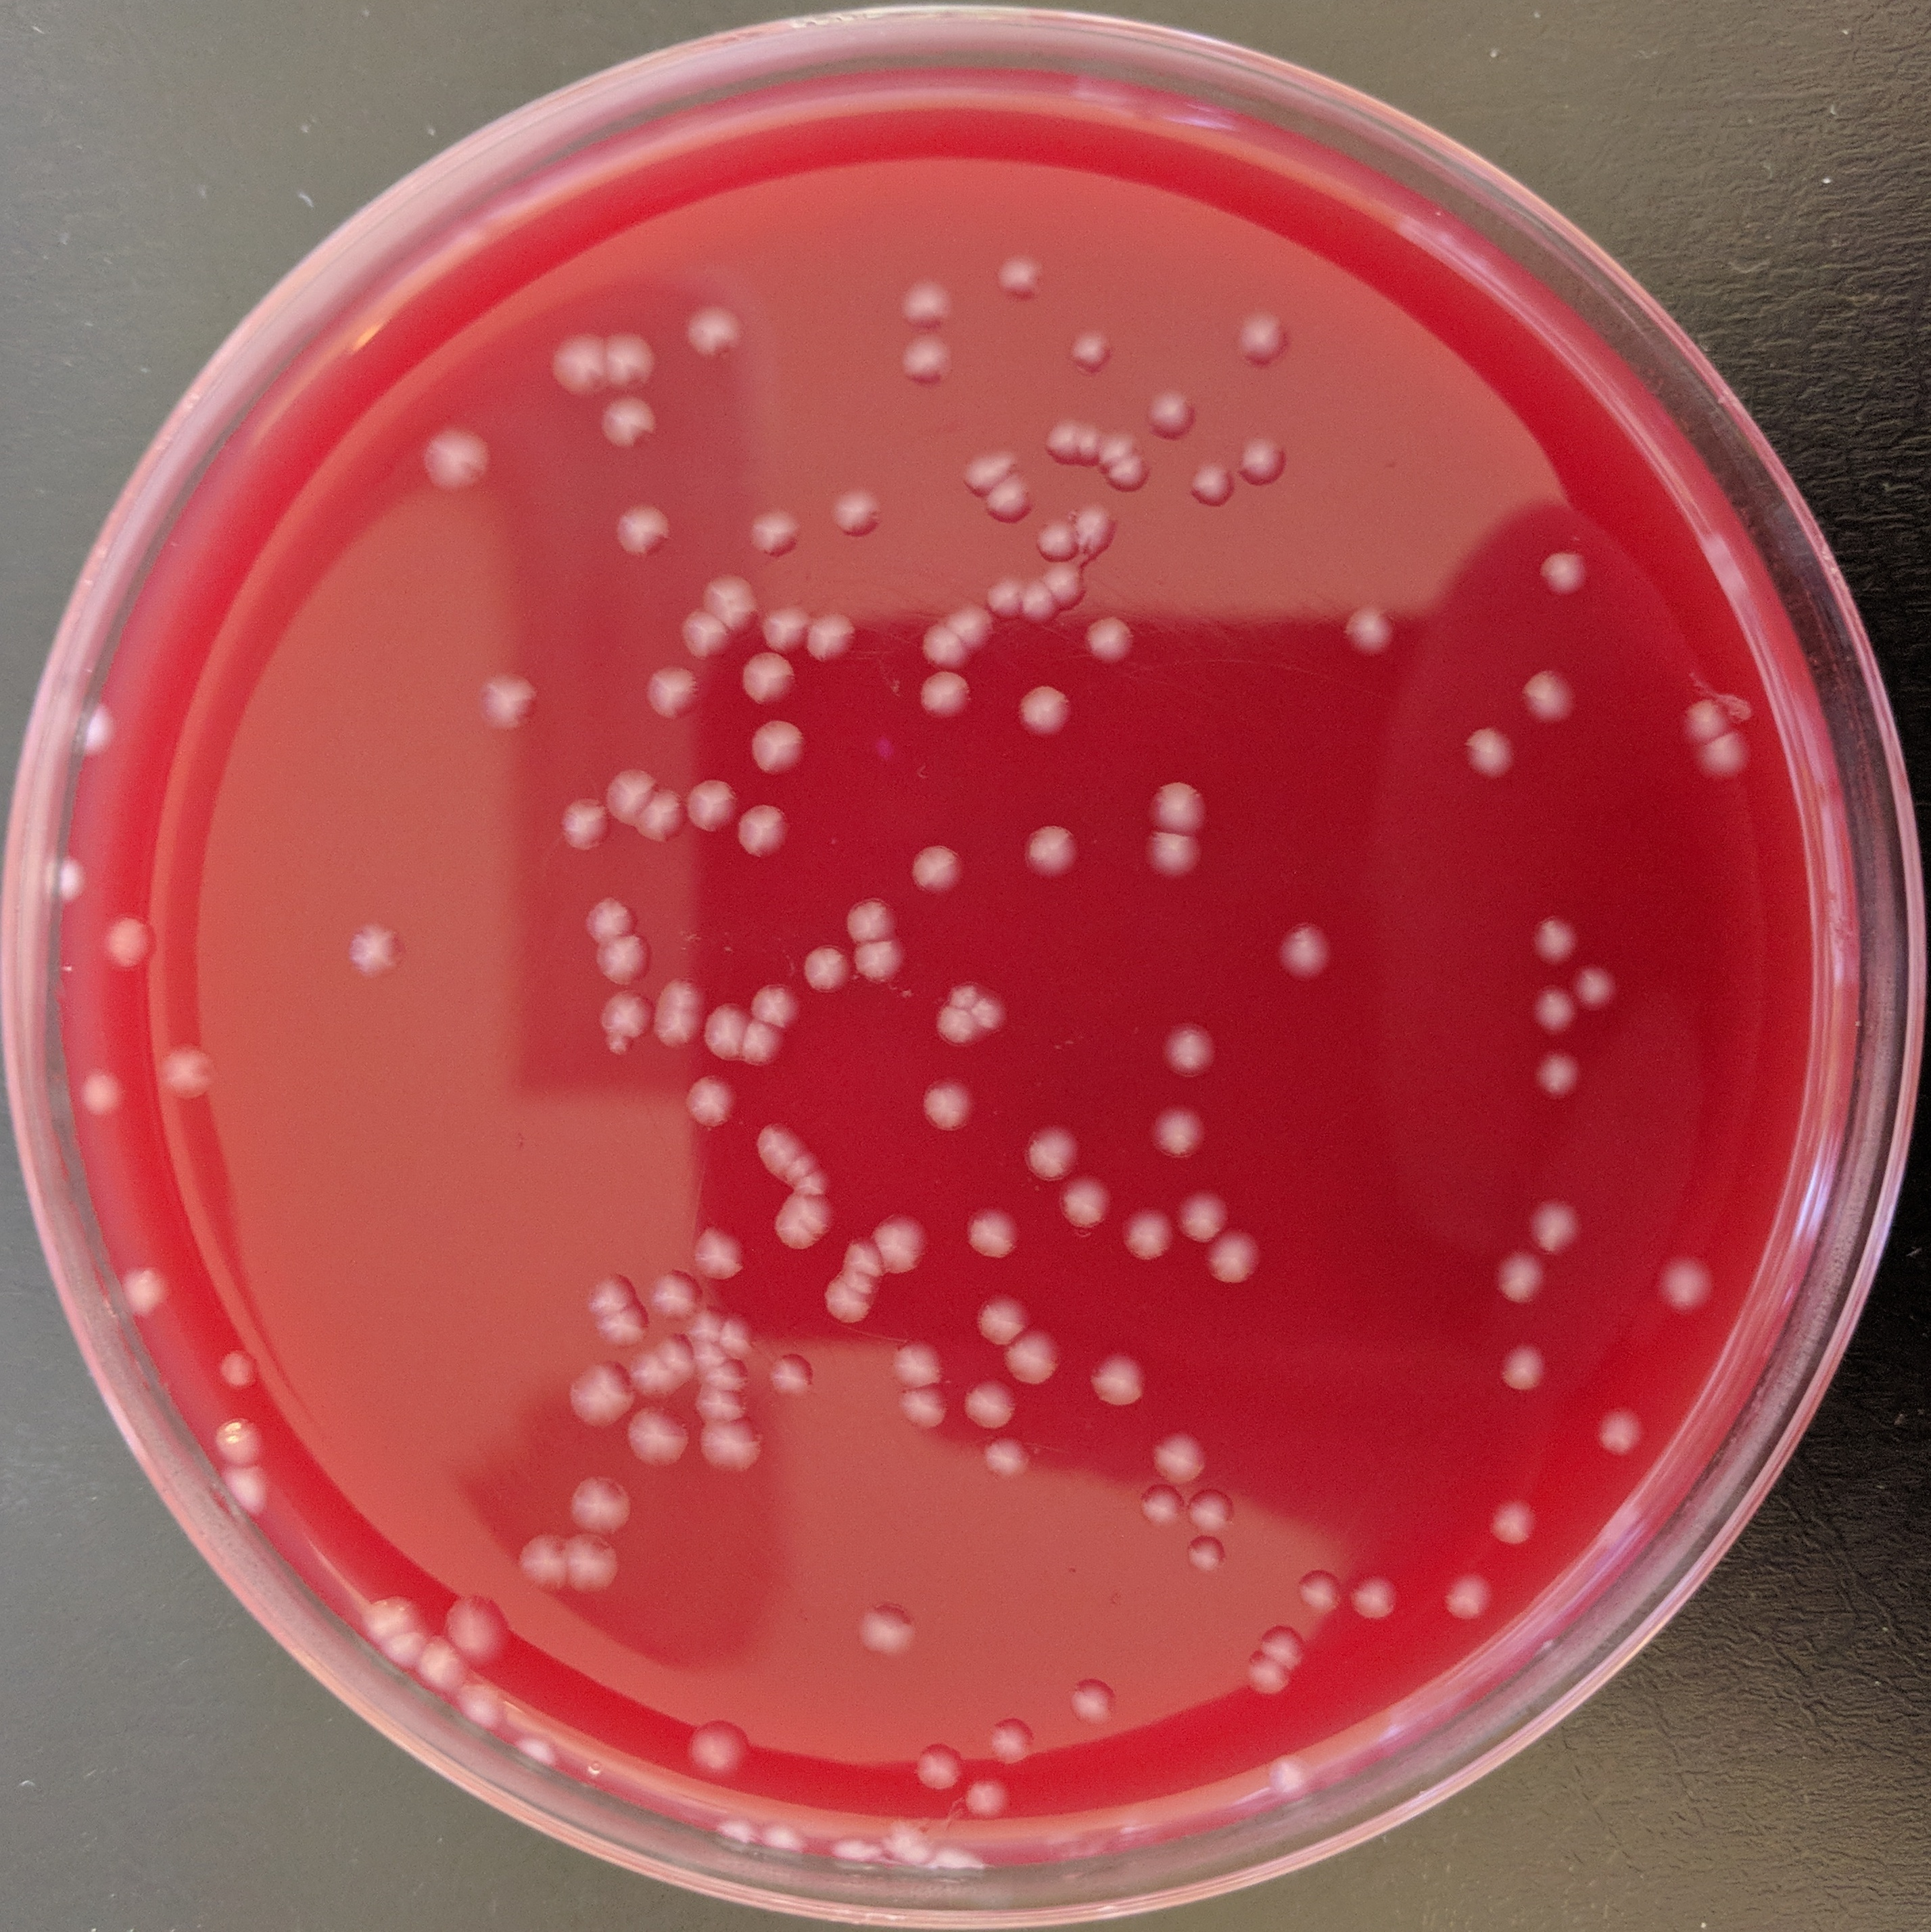sp18: (431, 1587, 523, 1668), (465, 660, 548, 741), (1641, 1240, 1721, 1323), (905, 1070, 994, 1138), (739, 708, 819, 780), (414, 426, 495, 495), (601, 494, 683, 563), (1227, 299, 1301, 373), (624, 1403, 695, 1477), (555, 1530, 631, 1599), (693, 1414, 773, 1479), (897, 835, 978, 899), (561, 1361, 633, 1431), (559, 1476, 635, 1543), (1135, 823, 1220, 883), (1153, 1012, 1224, 1083), (1434, 1562, 1508, 1629), (1111, 1200, 1179, 1270), (686, 564, 759, 632), (1492, 1330, 1560, 1403), (1049, 1168, 1121, 1235), (893, 322, 962, 391), (962, 1198, 1031, 1267), (902, 1734, 973, 1801), (598, 320, 663, 393), (638, 655, 702, 729), (543, 331, 610, 400), (403, 1638, 472, 1706), (157, 1039, 226, 1106), (1523, 1191, 1588, 1261), (675, 1063, 746, 1129), (1521, 899, 1583, 973), (1531, 531, 1591, 607), (870, 1205, 930, 1281), (1202, 1223, 1270, 1290), (1010, 676, 1075, 745), (1512, 658, 1577, 727), (1001, 1322, 1066, 1391), (553, 793, 619, 862), (209, 1456, 279, 1520), (334, 922, 405, 985), (1017, 1122, 1089, 1184), (1061, 315, 1121, 389), (914, 660, 980, 727), (1169, 1185, 1236, 1251), (71, 1063, 136, 1131), (820, 483, 891, 545), (681, 1224, 752, 1286), (1123, 1477, 1195, 1537), (1494, 1244, 1553, 1318), (1457, 722, 1523, 787), (980, 1713, 1045, 1778), (1273, 911, 1337, 978), (1149, 771, 1213, 839), (1019, 817, 1088, 879), (955, 1375, 1026, 1435), (681, 773, 741, 844), (1144, 1102, 1210, 1166), (589, 929, 654, 993), (615, 1336, 677, 1403), (845, 1599, 914, 1660), (594, 755, 651, 828), (698, 991, 753, 1065), (792, 939, 856, 1003), (95, 908, 159, 971), (1179, 451, 1241, 517), (732, 646, 798, 708), (1332, 600, 1399, 660), (1340, 1571, 1408, 1631), (684, 1716, 753, 1775), (1236, 423, 1291, 495), (1146, 1430, 1210, 1491), (1089, 1346, 1153, 1408), (42, 840, 95, 915), (734, 800, 799, 860), (973, 1426, 1038, 1486), (113, 1258, 179, 1318), (1671, 690, 1738, 748), (950, 1769, 1017, 1828), (1068, 612, 1139, 667), (897, 271, 958, 333), (672, 304, 746, 356), (801, 609, 859, 672), (1065, 1674, 1130, 1730), (592, 1299, 661, 1352), (69, 697, 122, 766), (849, 941, 920, 993), (578, 890, 649, 941), (912, 619, 973, 679), (1289, 1564, 1349, 1624), (886, 1330, 946, 1391), (1699, 729, 1758, 791), (1524, 1046, 1583, 1108), (969, 1290, 1031, 1348), (948, 442, 1013, 497), (1485, 1491, 1540, 1557), (667, 614, 736, 665), (210, 1334, 269, 1394), (210, 1410, 269, 1470), (1070, 499, 1126, 561), (591, 400, 661, 449), (645, 1263, 702, 1325), (744, 504, 808, 559), (377, 1619, 442, 1672), (1183, 1481, 1241, 1539), (1240, 1645, 1298, 1704), (456, 1674, 515, 1732), (509, 1534, 569, 1591), (877, 1815, 937, 1872), (1254, 1617, 1317, 1670), (355, 1583, 423, 1633), (819, 1281, 879, 1336), (592, 985, 653, 1040), (651, 1000, 704, 1062), (840, 899, 904, 950), (1591, 1394, 1643, 1458), (755, 1352, 819, 1403), (644, 786, 693, 851), (748, 1813, 815, 1861), (992, 248, 1049, 304), (755, 594, 810, 653), (737, 1012, 790, 1072), (654, 1322, 698, 1392), (1257, 1752, 1323, 1799), (943, 598, 999, 653), (1524, 978, 1581, 1033), (653, 968, 707, 1024), (580, 1267, 638, 1320), (748, 984, 808, 1035), (1141, 384, 1195, 439), (893, 1378, 950, 1431), (1572, 959, 1618, 1023), (744, 1123, 801, 1173), (690, 1382, 746, 1431), (780, 1189, 840, 1235), (1033, 416, 1082, 471), (836, 1228, 886, 1283), (1179, 1529, 1236, 1576), (971, 984, 1017, 1042), (1102, 448, 1156, 495), (707, 1812, 764, 1858), (923, 1842, 987, 1882), (1022, 515, 1073, 564), (714, 1309, 766, 1359), (985, 474, 1038, 522), (767, 1208, 817, 1258), (1038, 557, 1086, 609), (511, 1729, 562, 1776), (820, 1258, 877, 1300), (826, 1831, 882, 1874), (1015, 580, 1063, 630), (928, 1001, 980, 1047), (980, 571, 1027, 619), (1096, 418, 1139, 471), (1066, 409, 1103, 469), (688, 1352, 750, 1387), (934, 975, 985, 1016), (683, 1329, 737, 1366), (789, 1166, 836, 1205), (773, 1152, 824, 1185), (679, 1306, 725, 1343), (603, 1031, 640, 1062)
